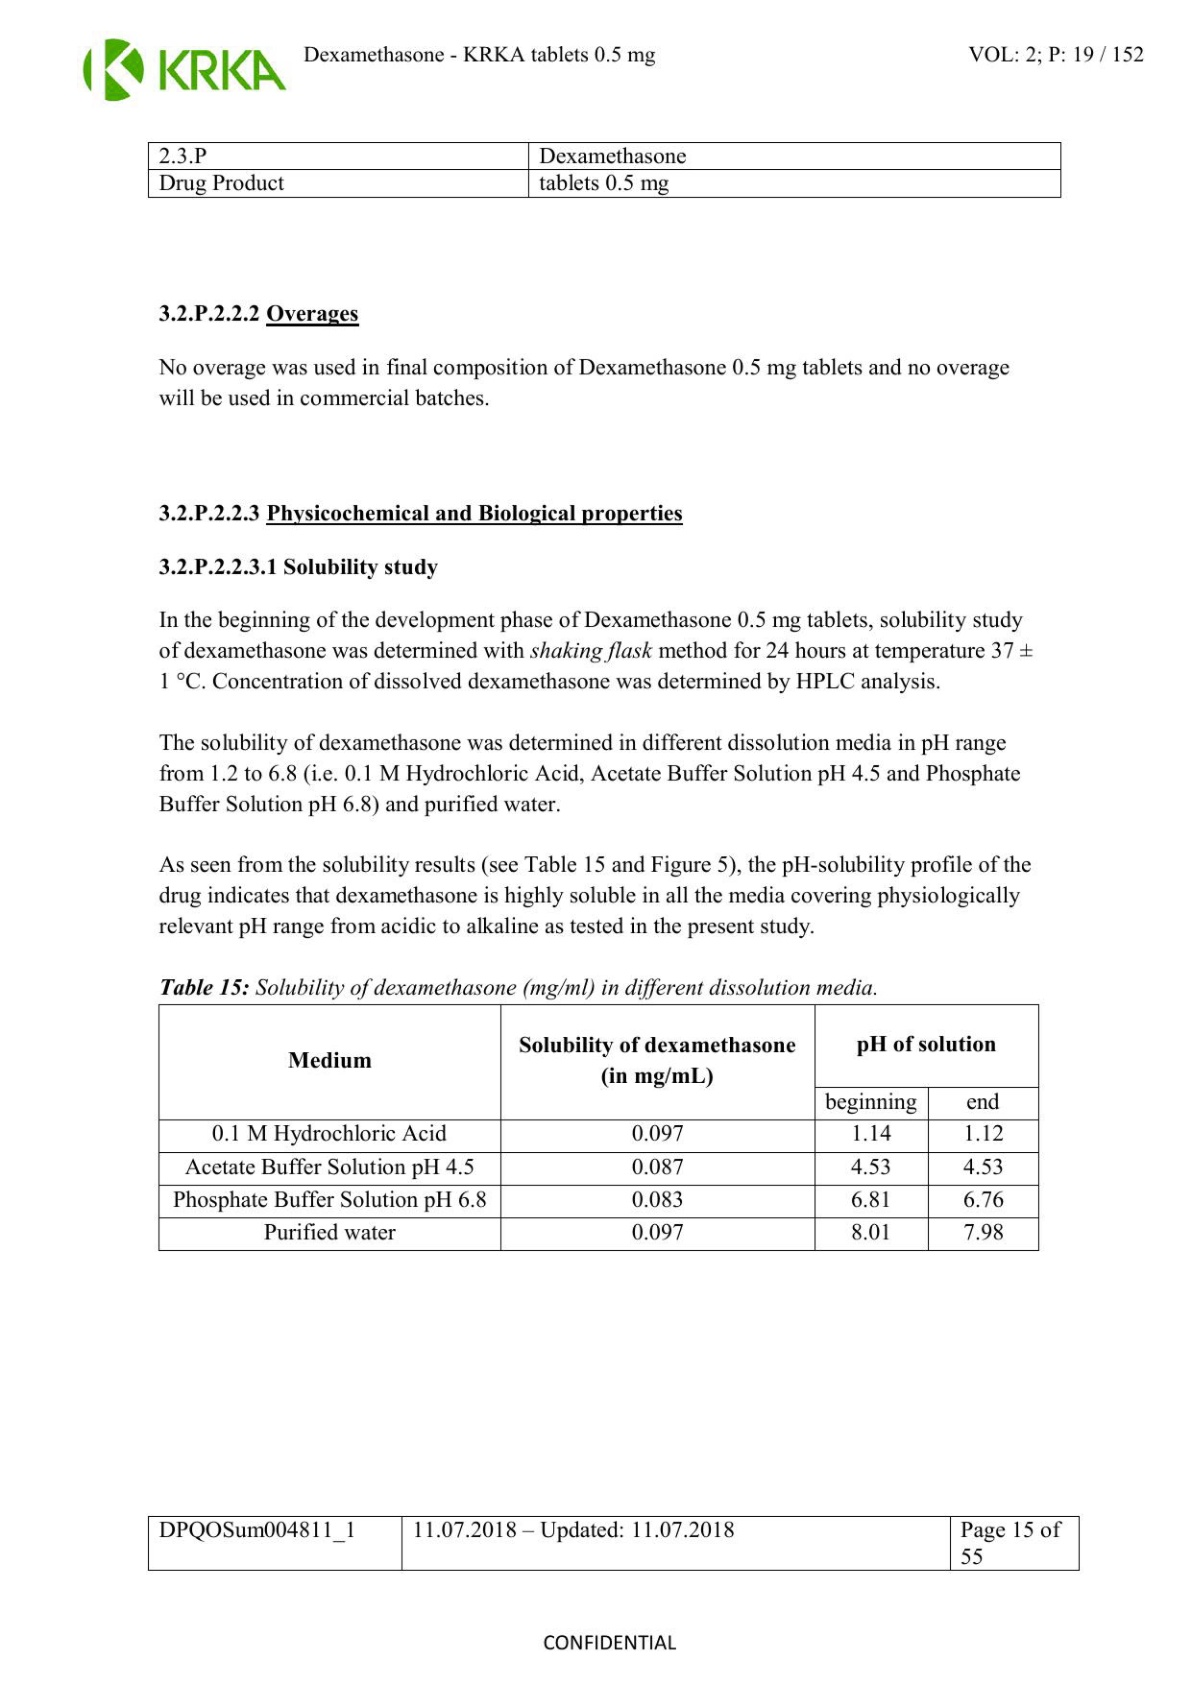full_lined: (146, 1514, 1081, 1572), (147, 141, 1060, 199)
merged_cells: (156, 1002, 1040, 1252)
